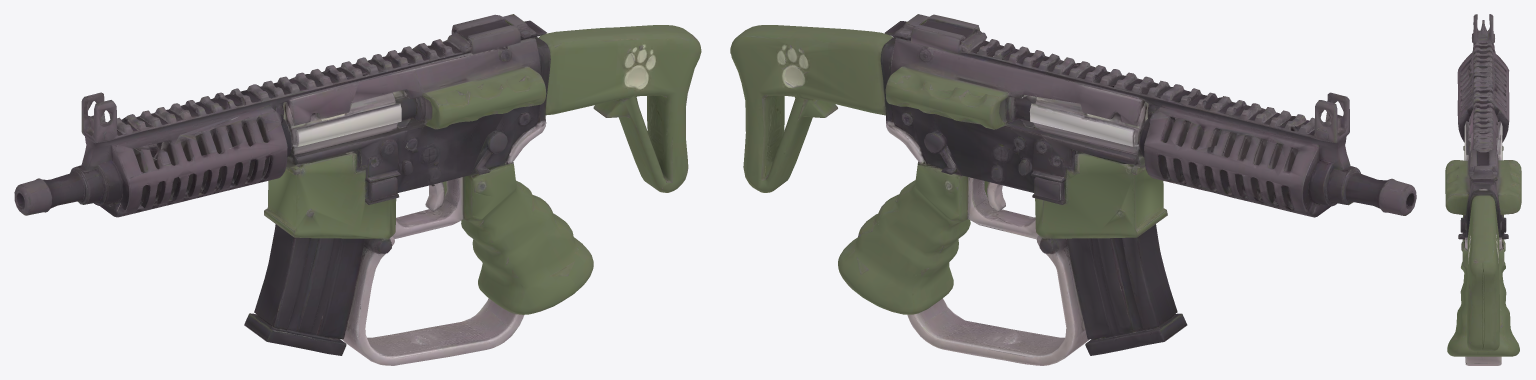
The model's file is rifle.glb.
3 views of the same model, side by side, from view 1: azimuth 30°, elevation 25°; view 2: azimuth 150°, elevation 25°; view 3: azimuth 270°, elevation 25° (orthographic). The views are drawn at different scales.
Parts seen in each view (by area): view 1: Mesh_0; view 2: Mesh_0; view 3: Mesh_0.
Boxes of the visible parts, x1,y1,x2,y2 form: Mesh_0: (14, 14, 701, 365); Mesh_0: (730, 14, 1416, 365); Mesh_0: (1445, 14, 1521, 365).
Bounding box in the file's own units: 1.9 × 0.8998 × 0.278.
Materials: 1 (1 with a texture image).
